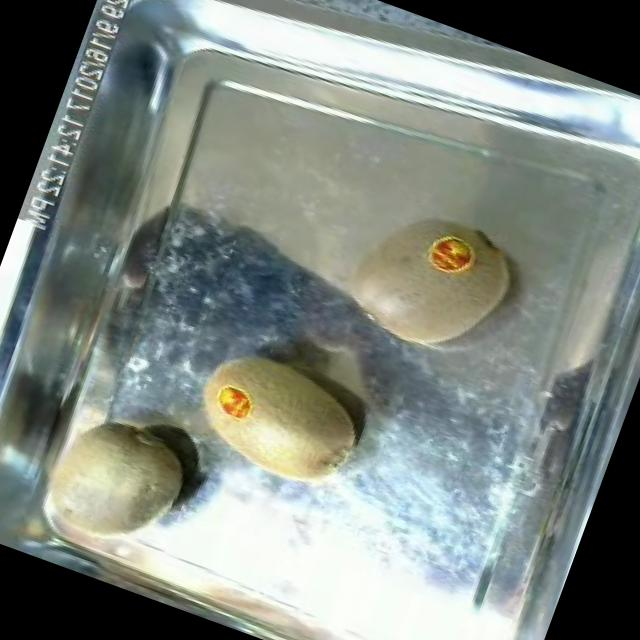Fruit: (0, 384, 211, 596), (322, 185, 535, 382), (175, 328, 385, 511)
